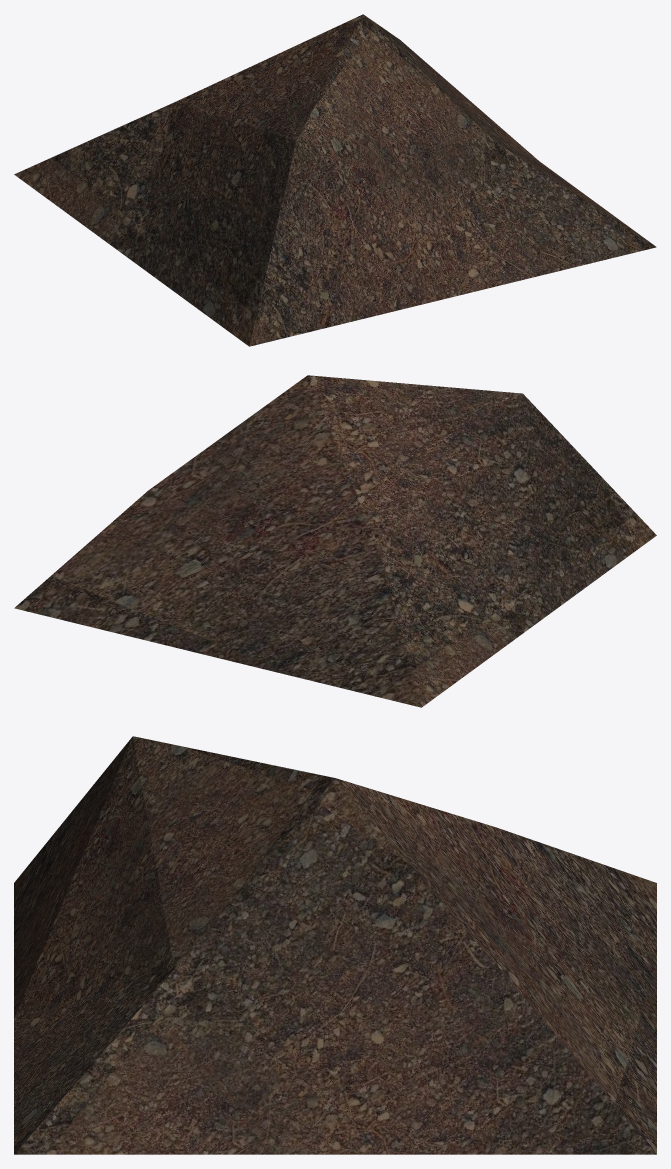
Rendered from cavetop.glb.
3 renders of one model, top to bottom at view 1: azimuth 30°, elevation 25°; view 2: azimuth 150°, elevation 25°; view 3: azimuth 270°, elevation 25°, orthographic. The views are drawn at different scales.
Parts seen in each view (by area): view 1: Cube; view 2: Cube; view 3: Cube.
Part boxes in pixels (x1=…): Cube: x1=14, y1=14, x2=656, y2=346; Cube: x1=14, y1=375, x2=656, y2=707; Cube: x1=14, y1=736, x2=656, y2=1154.
Bounding box in the file's own units: 9.93 × 4.42 × 9.93.
Materials: 1 (1 with a texture image).
